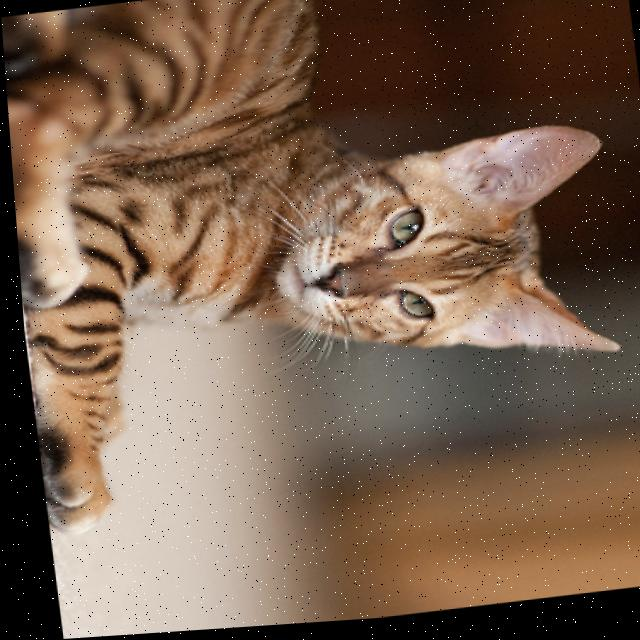Bengal: (0, 0, 640, 542)
